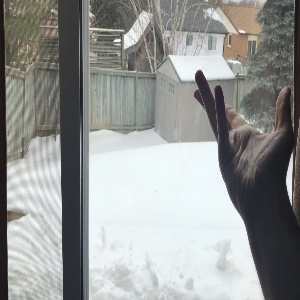hand: (193, 69, 293, 197)
